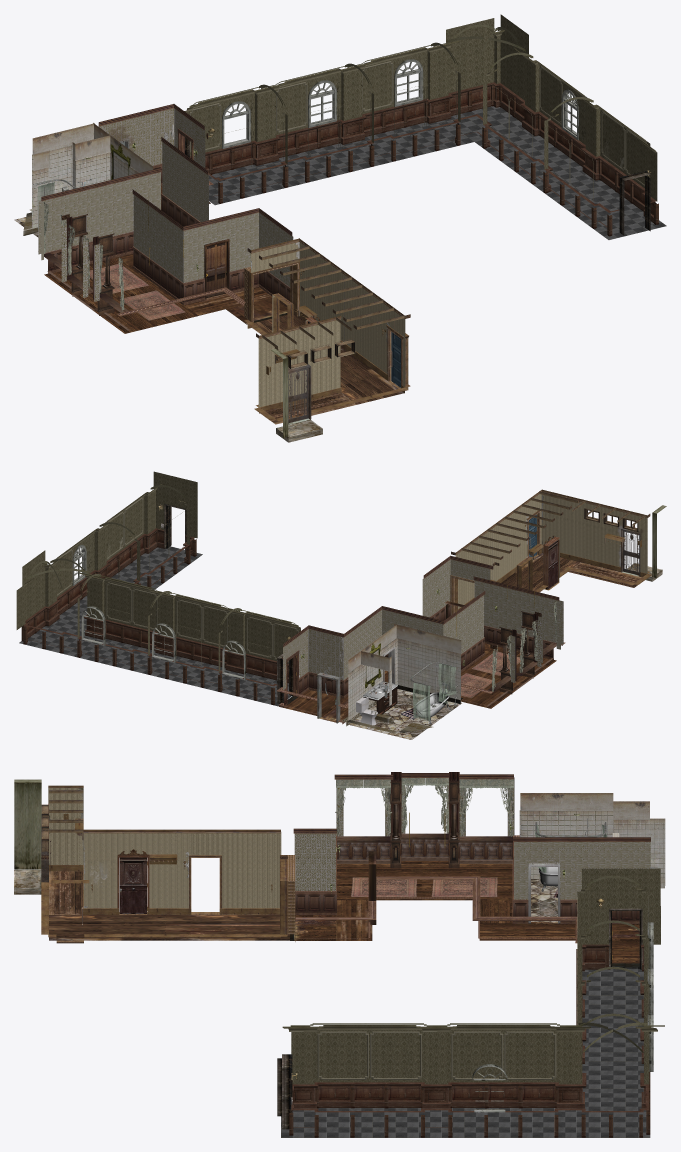
File: horror_corridor_4.glb
3 renders of one model, top to bottom at view 1: azimuth 30°, elevation 25°; view 2: azimuth 150°, elevation 25°; view 3: azimuth 270°, elevation 25°, orthographic. The views are drawn at different scales.
Parts seen in each view (by area): view 1: FrontSide_45, FrontSide_1, FrontSide_24, FrontSide_58, FrontSide_64, FrontSide_62, FrontSide_3, FrontSide_56, FrontSide_54, FrontSide_12, FrontSide_26, FrontSide_20 (+15 smaller); view 2: FrontSide_45, FrontSide_1, FrontSide_24, FrontSide_56, FrontSide_64, FrontSide_71, FrontSide_20, FrontSide_62, FrontSide_69, FrontSide_54, FrontSide_26, FrontSide_3 (+18 smaller); view 3: FrontSide_45, FrontSide_1, FrontSide_24, FrontSide_20, FrontSide_57, FrontSide_58, FrontSide_62, FrontSide_56, FrontSide_6, FrontSide_38, FrontSide_42, FrontSide_72 (+19 smaller).
Part boxes in pixels (box(x1,y1,x2,y2)): FrontSide_45: box(184, 14, 666, 239); FrontSide_1: box(185, 82, 658, 236); FrontSide_24: box(38, 142, 293, 301); FrontSide_58: box(258, 242, 344, 407); FrontSide_64: box(247, 238, 410, 390); FrontSide_62: box(244, 261, 410, 424); FrontSide_3: box(48, 165, 290, 302); FrontSide_56: box(32, 145, 138, 228); FrontSide_54: box(344, 275, 405, 386); FrontSide_12: box(222, 59, 578, 148); FrontSide_26: box(32, 123, 153, 172); FrontSide_20: box(44, 185, 210, 333); FrontSide_45: box(16, 471, 300, 706); FrontSide_1: box(21, 503, 292, 705); FrontSide_24: box(343, 559, 563, 682); FrontSide_56: box(348, 638, 460, 723); FrontSide_64: box(451, 489, 650, 585); FrontSide_71: box(583, 503, 647, 573); FrontSide_20: box(284, 646, 556, 715); FrontSide_62: box(455, 548, 651, 612); FrontSide_69: box(541, 494, 583, 557); FrontSide_54: box(492, 494, 541, 581); FrontSide_26: box(348, 624, 461, 673); FrontSide_3: box(284, 604, 553, 705); FrontSide_45: box(281, 868, 660, 1137); FrontSide_1: box(277, 903, 650, 1137); FrontSide_24: box(294, 777, 650, 899); FrontSide_20: box(337, 860, 639, 963); FrontSide_57: box(83, 833, 190, 908); FrontSide_58: box(190, 832, 281, 908); FrontSide_62: box(41, 855, 287, 943); FrontSide_56: box(519, 810, 665, 888); FrontSide_6: box(337, 839, 512, 863); FrontSide_38: box(335, 778, 514, 836); FrontSide_42: box(295, 834, 639, 943); FrontSide_72: box(49, 915, 165, 940).
Size of what is drawn, in the model's own units: 10.94 by 1.88 by 10.42.
76 materials, 76 textured.
